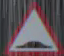Speed Breaker ahead: (11, 1, 55, 54)
